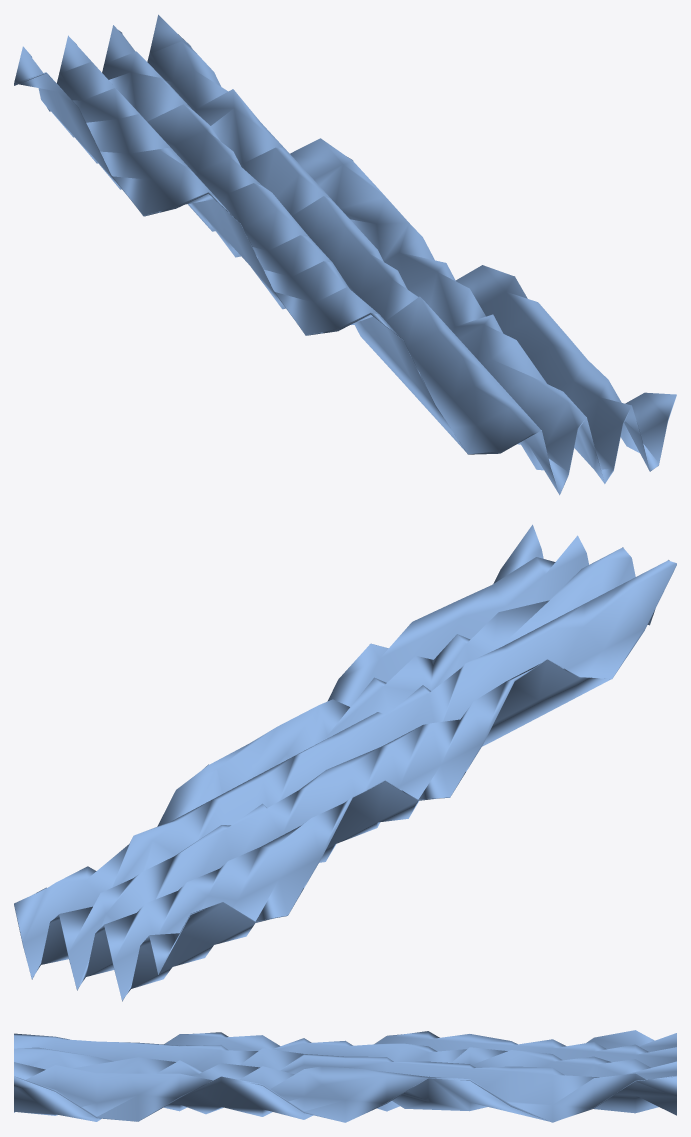
Rendered from fence5.fbx.
3 renders of one model, top to bottom at view 1: azimuth 30°, elevation 25°; view 2: azimuth 150°, elevation 25°; view 3: azimuth 270°, elevation 25°, orthographic. The views are drawn at different scales.
Visible parts, largest first — view 1: Cube.024; view 2: Cube.024; view 3: Cube.024.
Boxes of the visible parts, <box> form: Cube.024: <box>14,14,676,495</box>; Cube.024: <box>14,524,676,1001</box>; Cube.024: <box>14,1030,676,1122</box>.
Bounding box in the file's own units: 2002 × 1032 × 12454.
